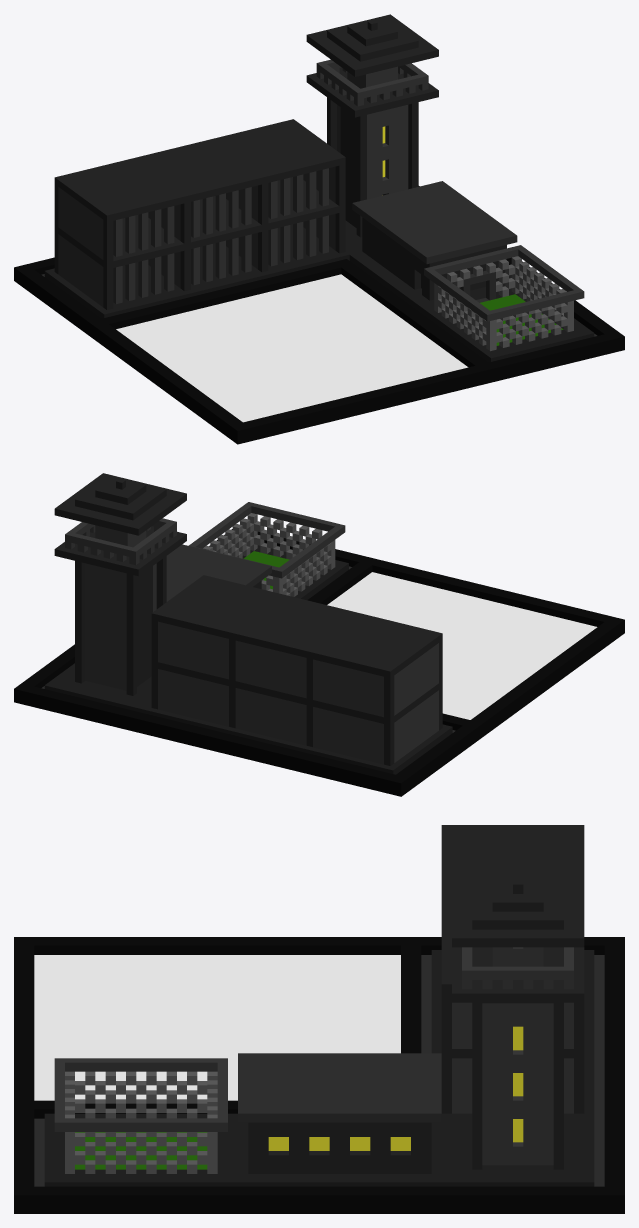
Rendered from tile10.obj.
The picture shows the model from 3 angles, top to bottom: view 1: azimuth 30°, elevation 25°; view 2: azimuth 150°, elevation 25°; view 3: azimuth 270°, elevation 25°; orthographic projection. The views are drawn at different scales.
Bounding box in the file's own units: 6 × 3.1 × 6.
Materials: 1 (1 with a texture image).
